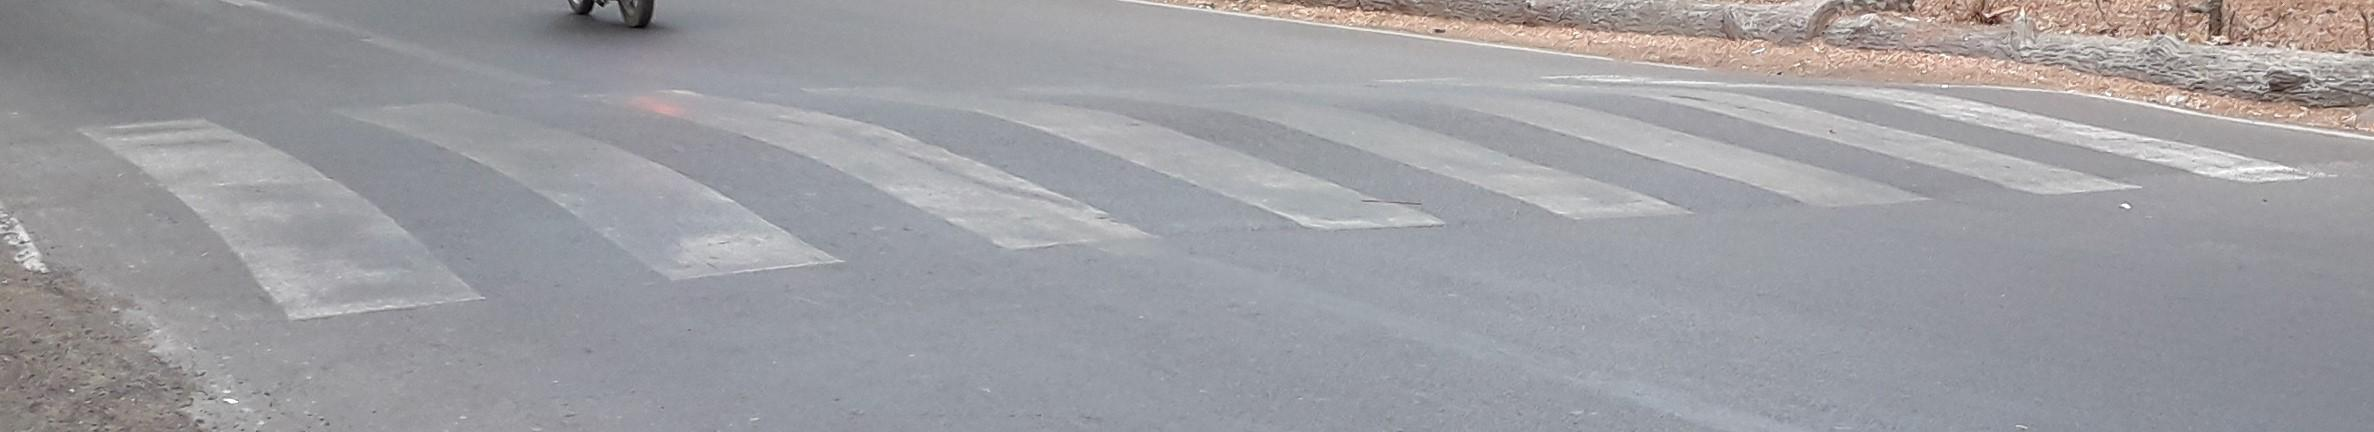speed-bump: (29, 62, 2328, 334)
